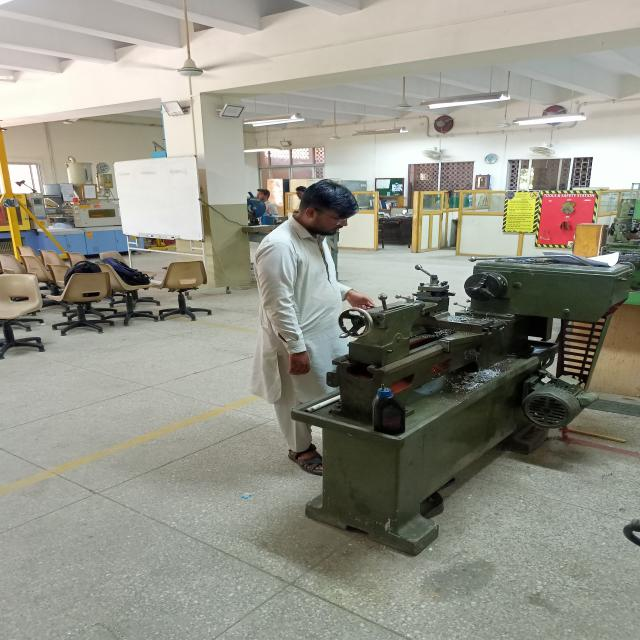glasses: (243, 202, 365, 460), (330, 208, 355, 229)
